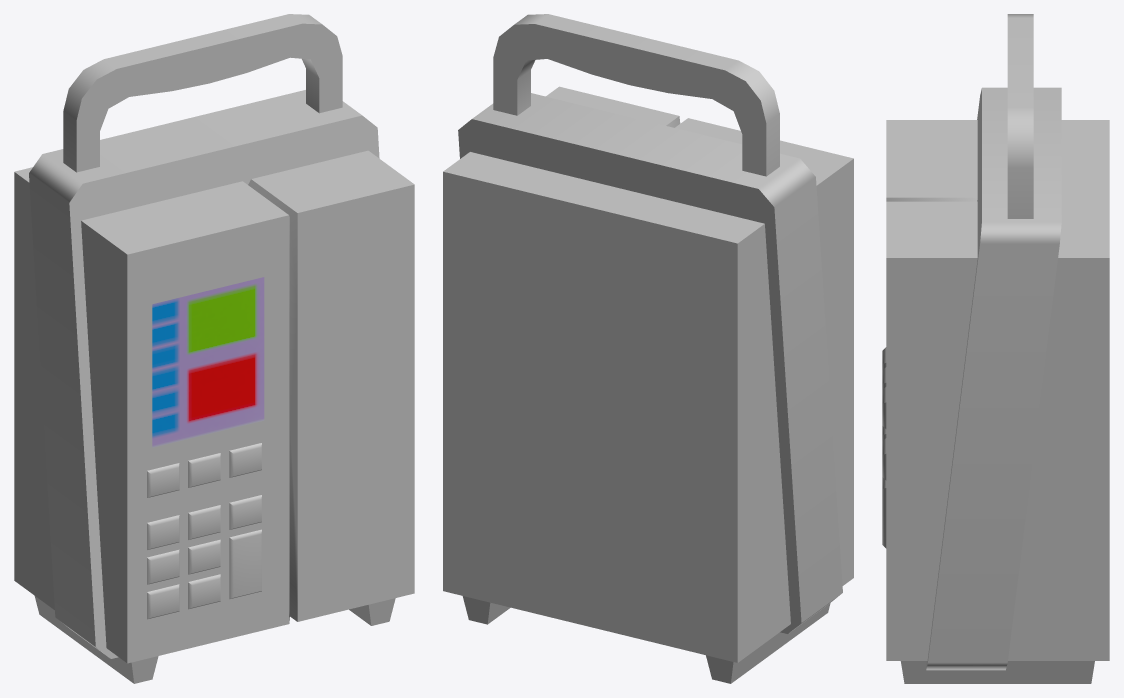
The model's file is Infusion_Pumo_01.fbx.
3 views of the same model, side by side, from view 1: azimuth 30°, elevation 25°; view 2: azimuth 150°, elevation 25°; view 3: azimuth 270°, elevation 25° (orthographic). The views are drawn at different scales.
Parts seen in each view (by area): view 1: Infusion_Pumo_01; view 2: Infusion_Pumo_01; view 3: Infusion_Pumo_01.
Part boxes in pixels (x1,y1,x2,y2): Infusion_Pumo_01: (14, 14, 414, 683); Infusion_Pumo_01: (443, 14, 853, 683); Infusion_Pumo_01: (882, 14, 1109, 683).
Size of the model in its own units: 22 by 14.24 by 38.74.
